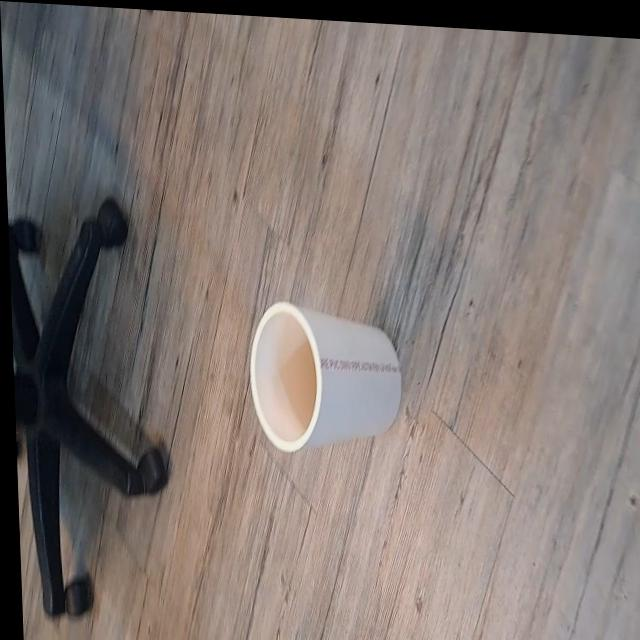CORAL: (238, 283, 412, 470)
